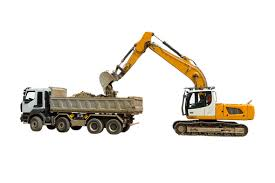excavator: (102, 33, 261, 138)
truck: (20, 85, 145, 136)
